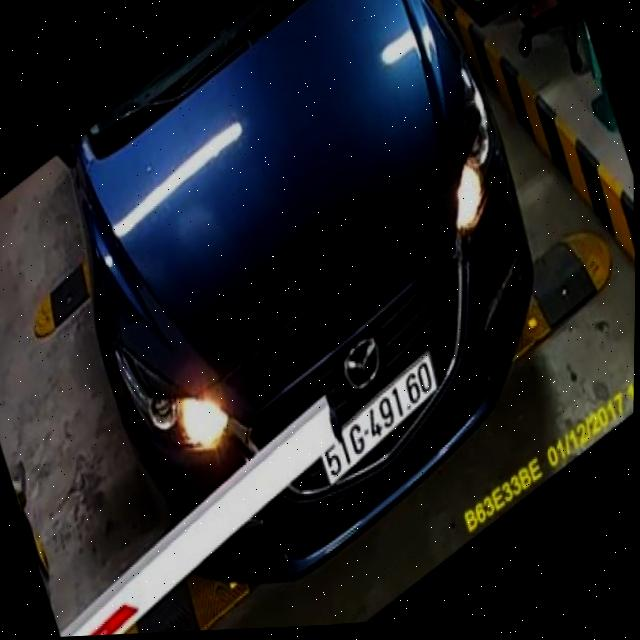car: (38, 0, 554, 606)
plate: (314, 350, 444, 486)
